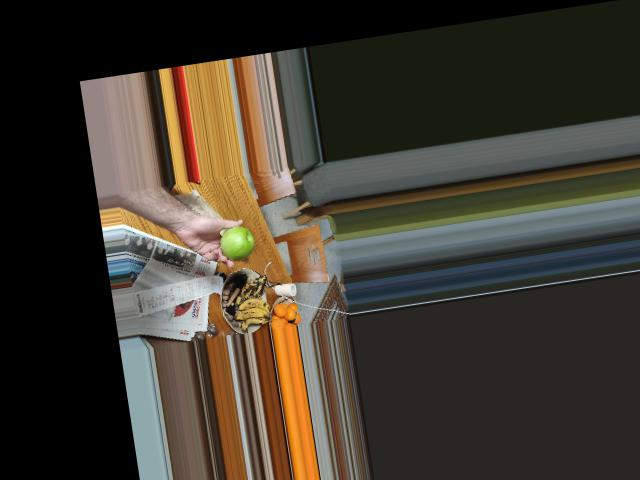apple: (216, 225, 256, 260)
